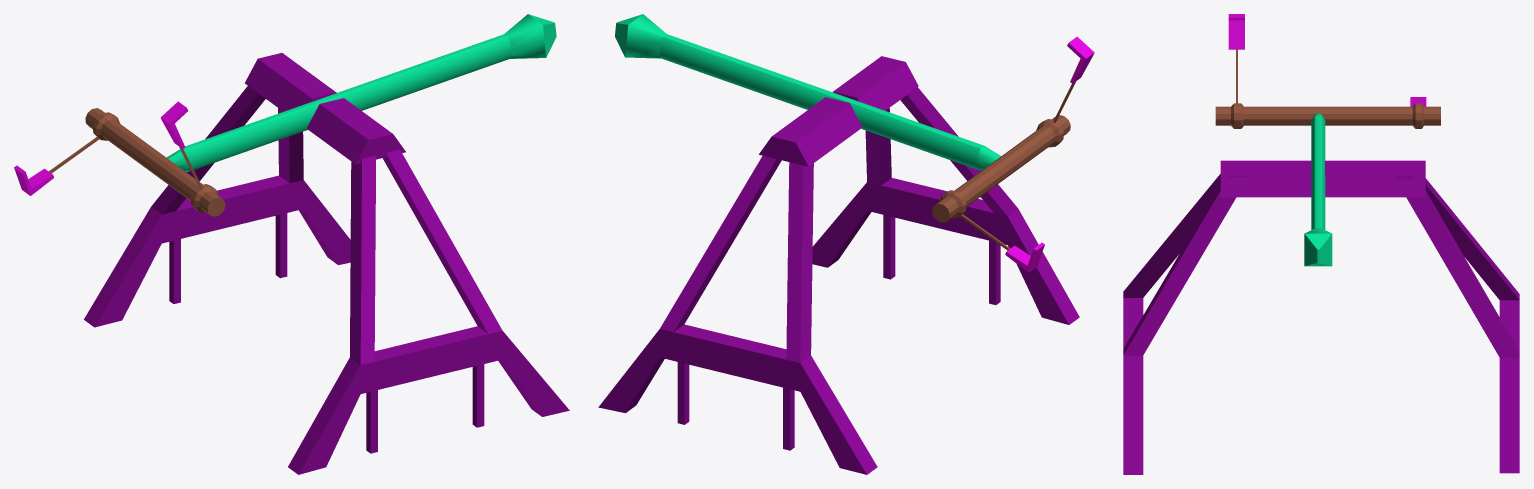
The model's file is BarfingSwing_01.fbx.
3 views of the same model, side by side, from view 1: azimuth 30°, elevation 25°; view 2: azimuth 150°, elevation 25°; view 3: azimuth 270°, elevation 25° (orthographic). The views are drawn at different scales.
Visible parts, largest first — view 1: BarfSwing; view 2: BarfSwing; view 3: BarfSwing.
Boxes of the visible parts, x1,y1,x2,y2 form: BarfSwing: (14, 14, 569, 474); BarfSwing: (598, 14, 1094, 474); BarfSwing: (1123, 14, 1519, 474).
Size of the model in its own units: 14.22 by 9.57 by 10.94.
